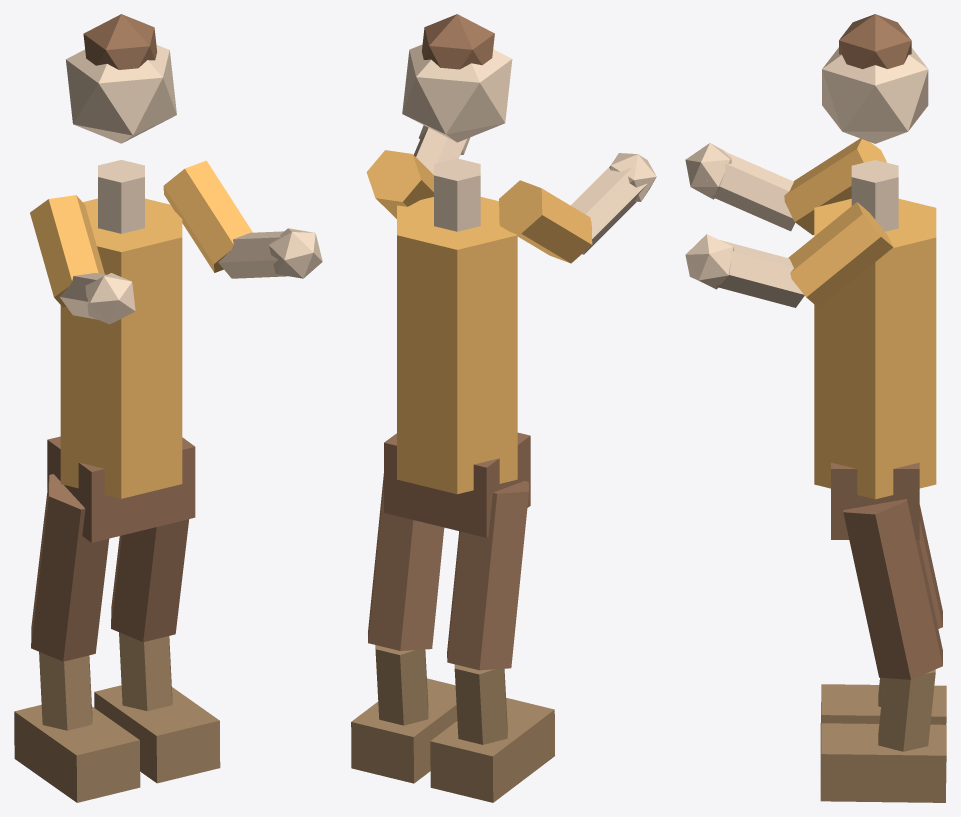
File: pose_dodge_roll_02.glb
The picture shows the model from 3 angles, left to right: view 1: azimuth 30°, elevation 25°; view 2: azimuth 150°, elevation 25°; view 3: azimuth 270°, elevation 25°; orthographic projection.
Parts seen in each view (by area): view 1: pose; view 2: pose; view 3: pose.
Boxes of the visible parts, x1,y1,x2,y2 form: pose: [14, 14, 322, 802]; pose: [351, 14, 656, 802]; pose: [685, 14, 946, 802].
Size of the model in its own units: 0.509 by 1.6 by 0.5008.
